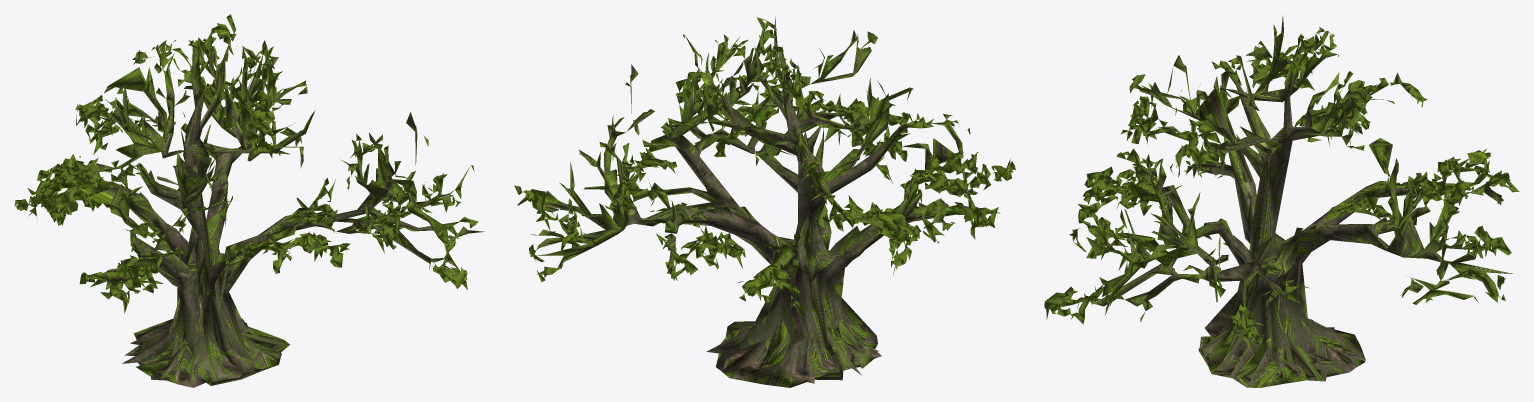
The model's file is mango-tree.glb.
3 views of the same model, side by side, from view 1: azimuth 30°, elevation 25°; view 2: azimuth 150°, elevation 25°; view 3: azimuth 270°, elevation 25° (orthographic). The views are drawn at different scales.
Size of the model in its own units: 1.71 by 1.29 by 1.75.
Materials: 1 (1 with a texture image).
